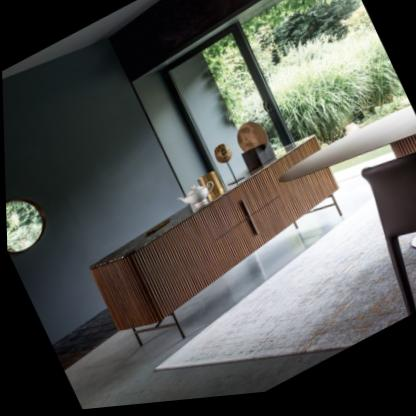Sideboard: (88, 142, 337, 334)
